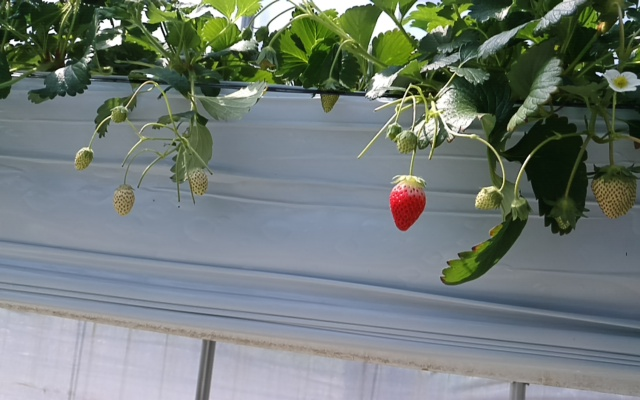GreenStrawberry: (588, 161, 640, 223), (110, 182, 138, 217), (472, 185, 503, 215), (320, 76, 341, 114), (71, 145, 98, 174), (186, 165, 210, 197), (395, 128, 419, 156), (108, 104, 128, 125)
MatureStrawberry: (386, 175, 428, 235)
